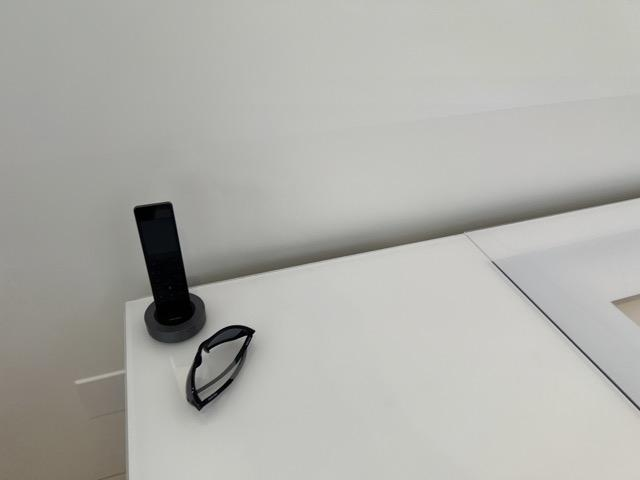Sunglasses: (185, 324, 257, 414)
